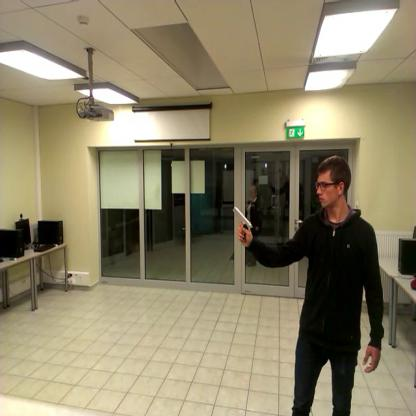Pistol: (226, 200, 260, 251)
